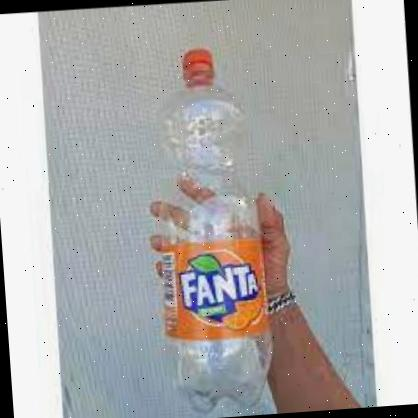bottle: (142, 46, 282, 416)
cap: (179, 48, 217, 76)
label: (161, 237, 270, 342)
